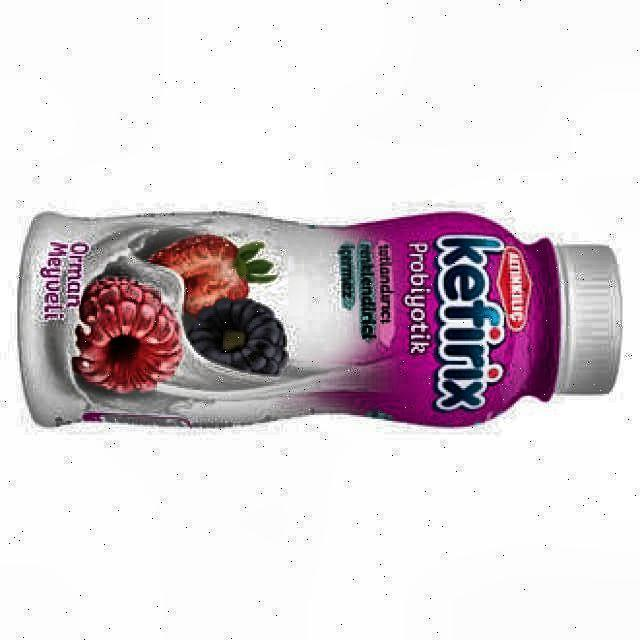plastic: (17, 211, 621, 426)
